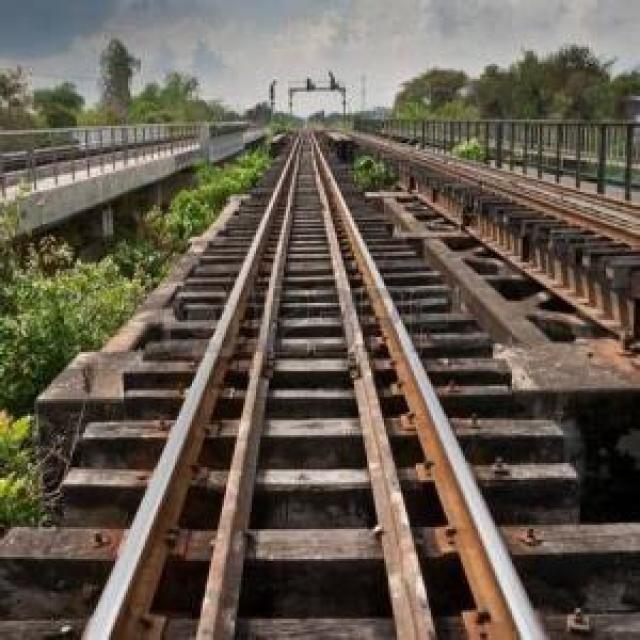rail: (55, 127, 570, 640)
